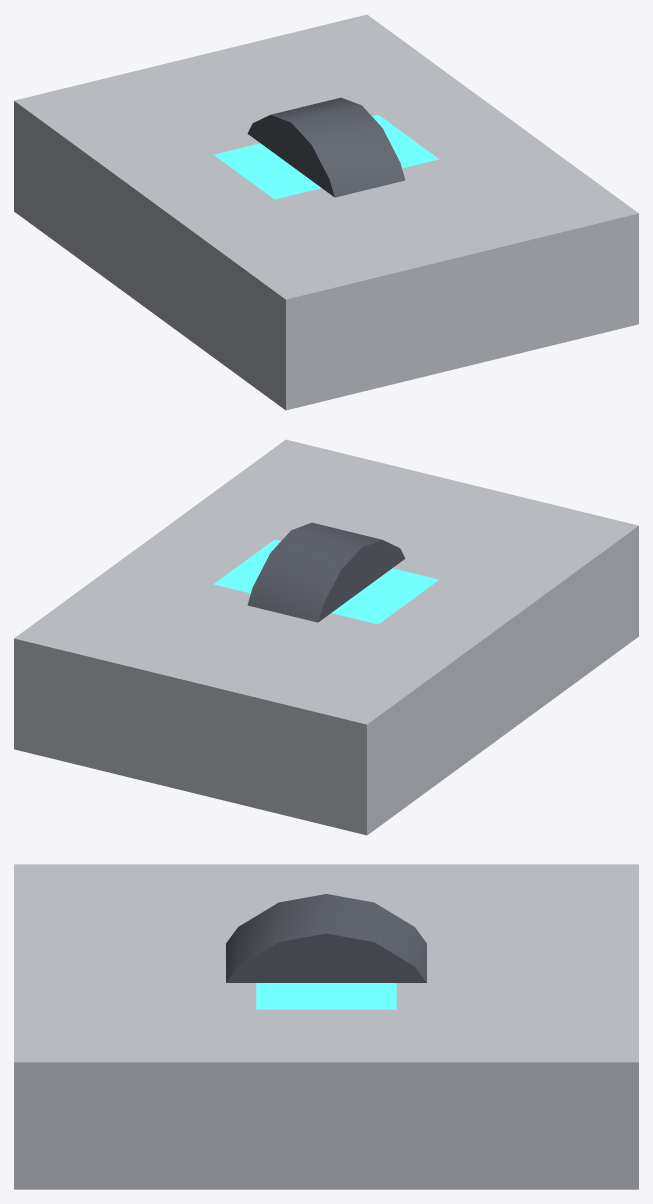
File: avatar.glb
3 renders of one model, top to bottom at view 1: azimuth 30°, elevation 25°; view 2: azimuth 150°, elevation 25°; view 3: azimuth 270°, elevation 25°, orthographic. The views are drawn at different scales.
Parts seen in each view (by area): view 1: chassis, wheel_fl (×4), head; view 2: chassis, wheel_fl (×4), head; view 3: chassis, wheel_fl (×4), head.
Part boxes in pixels (x1=…): chassis: x1=14, y1=14, x2=638, y2=410; wheel_fl (×4): x1=247, y1=97, x2=405, y2=197; head: x1=214, y1=114, x2=438, y2=199; chassis: x1=14, y1=439, x2=638, y2=835; wheel_fl (×4): x1=247, y1=522, x2=405, y2=622; head: x1=214, y1=539, x2=438, y2=624; chassis: x1=14, y1=864, x2=638, y2=1189; wheel_fl (×4): x1=226, y1=894, x2=426, y2=982; head: x1=256, y1=983, x2=396, y2=1009.
Bounding box in the file's own units: 19659 × 10485 × 26214.
